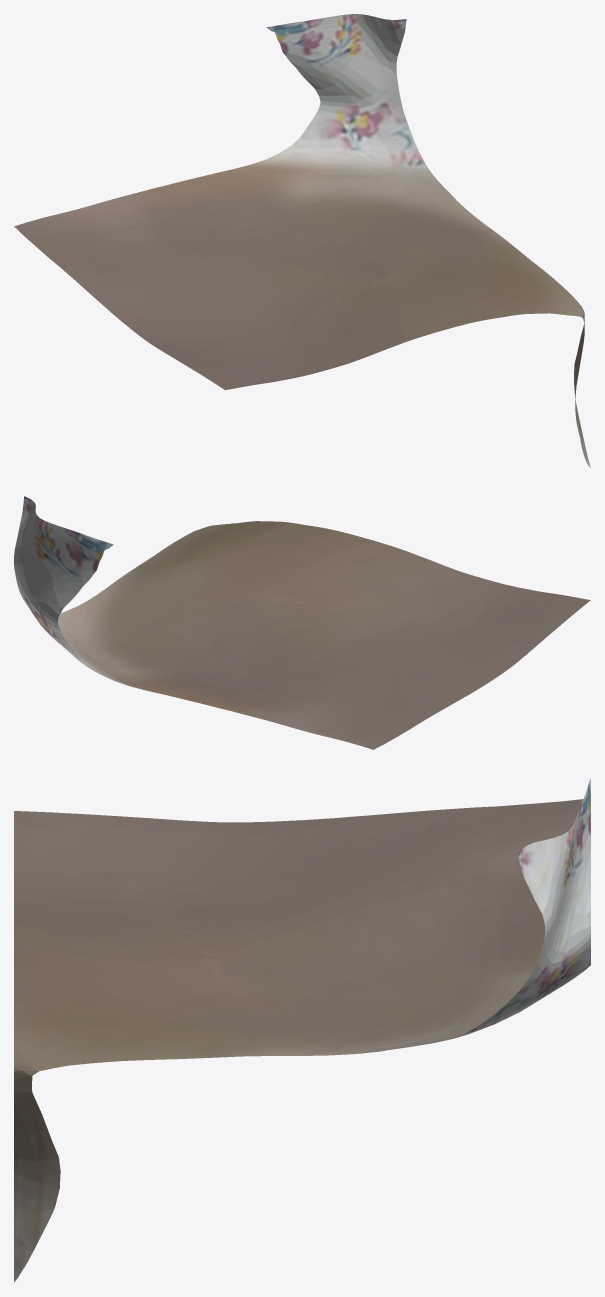
3 views of the same model, one above another, from view 1: azimuth 30°, elevation 25°; view 2: azimuth 150°, elevation 25°; view 3: azimuth 270°, elevation 25° (orthographic). The views are drawn at different scales.
Bounding box in the file's own units: 171 × 141 × 171.
1 material, 1 textured.
